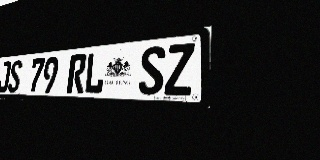7: (28, 57, 45, 93)
9: (41, 56, 60, 93)
J: (0, 61, 11, 92)
L: (84, 51, 106, 94)
R: (66, 53, 87, 94)
S: (138, 45, 166, 95), (7, 60, 23, 92)
Z: (164, 43, 195, 96)
